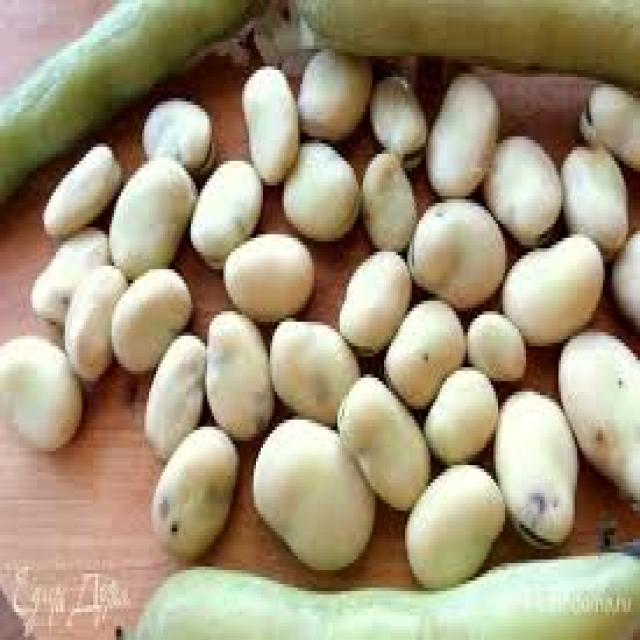Beans: (28, 75, 640, 559), (0, 0, 305, 224), (102, 553, 640, 640), (291, 0, 640, 94), (0, 328, 74, 458)
